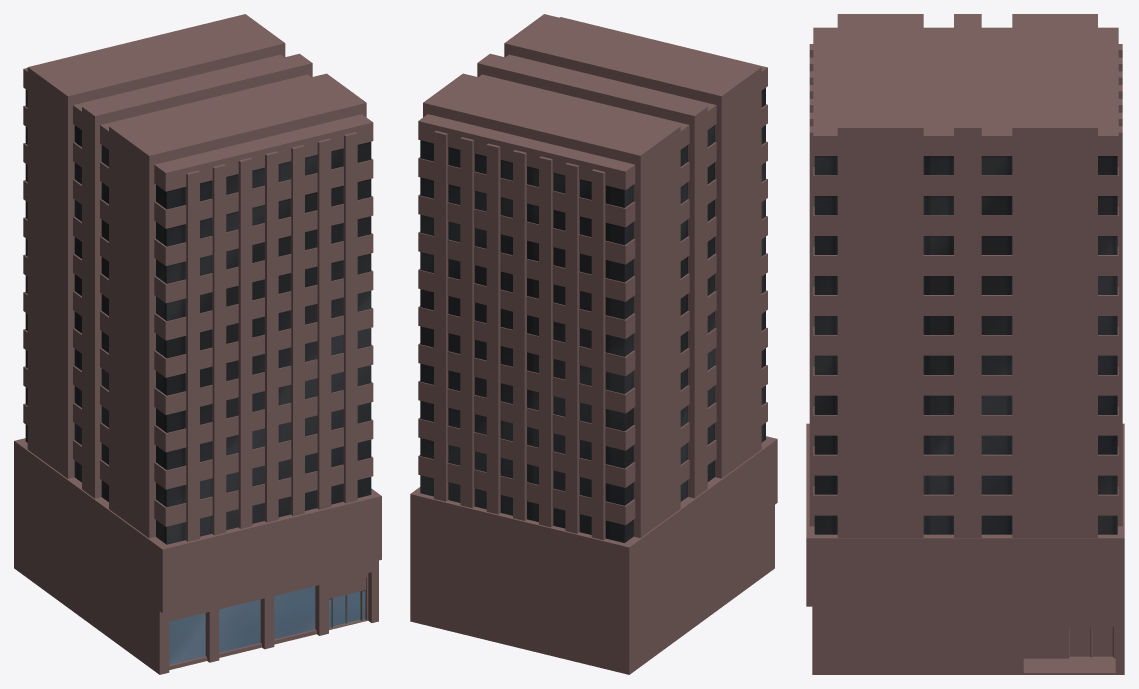
File: Bld_Building_HA.fbx
The picture shows the model from 3 angles, left to right: view 1: azimuth 30°, elevation 25°; view 2: azimuth 150°, elevation 25°; view 3: azimuth 270°, elevation 25°; orthographic projection. The views are drawn at different scales.
Visible parts, largest first — view 1: Bld_Building_HA; view 2: Bld_Building_HA; view 3: Bld_Building_HA.
Boxes of the visible parts, bbox=[...] form: Bld_Building_HA: bbox=[14, 14, 381, 674]; Bld_Building_HA: bbox=[410, 14, 777, 674]; Bld_Building_HA: bbox=[806, 14, 1124, 674].
Size of the model in its own units: 1800 by 4000 by 2110.
